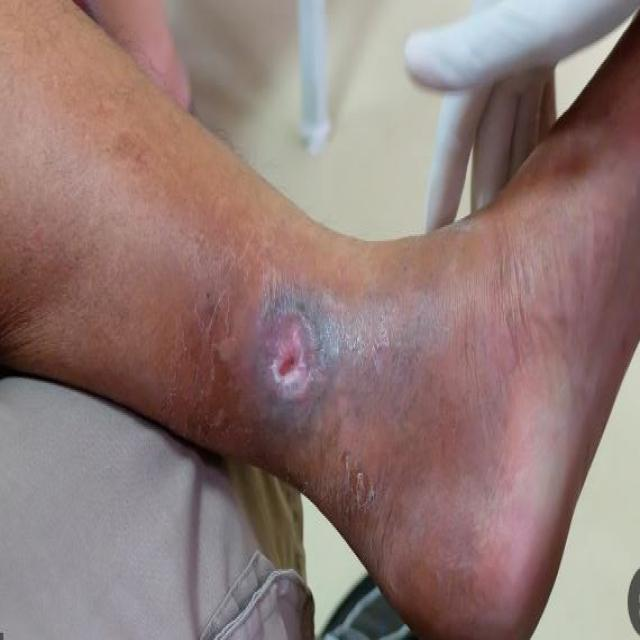Eczema: (202, 285, 374, 433)
